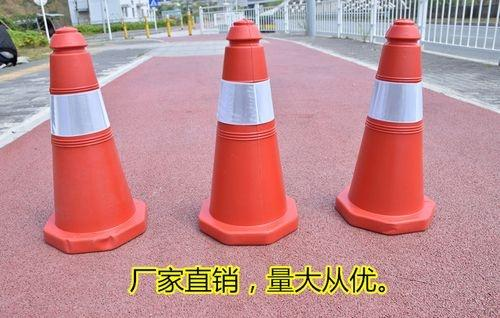cone_barrel: (32, 24, 141, 249), (193, 15, 298, 240), (334, 13, 436, 232)
